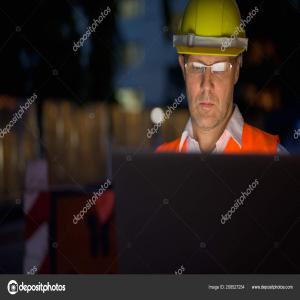yellow: (178, 2, 248, 128)
